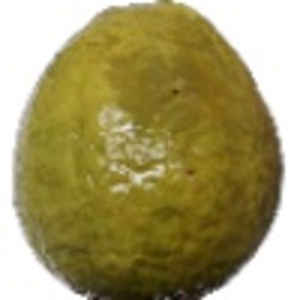goiaba: (12, 5, 287, 299)
